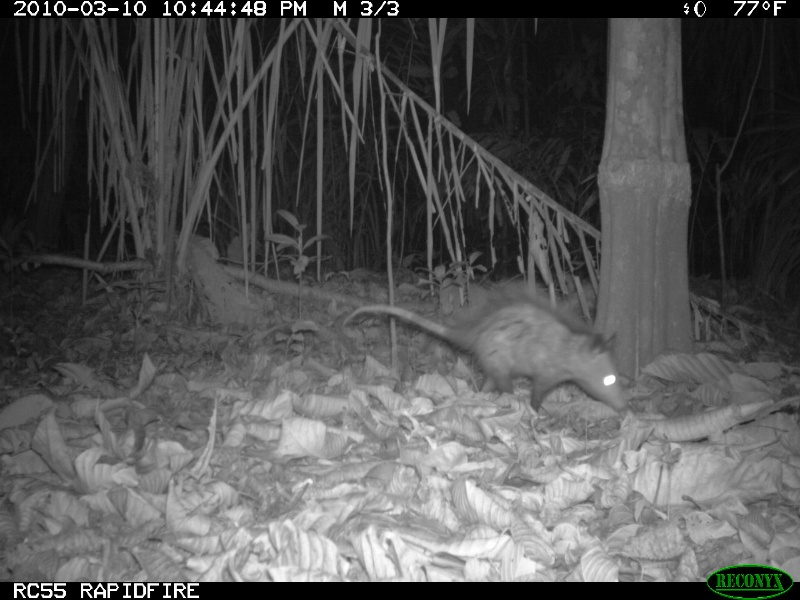opossum: (338, 273, 636, 423)
